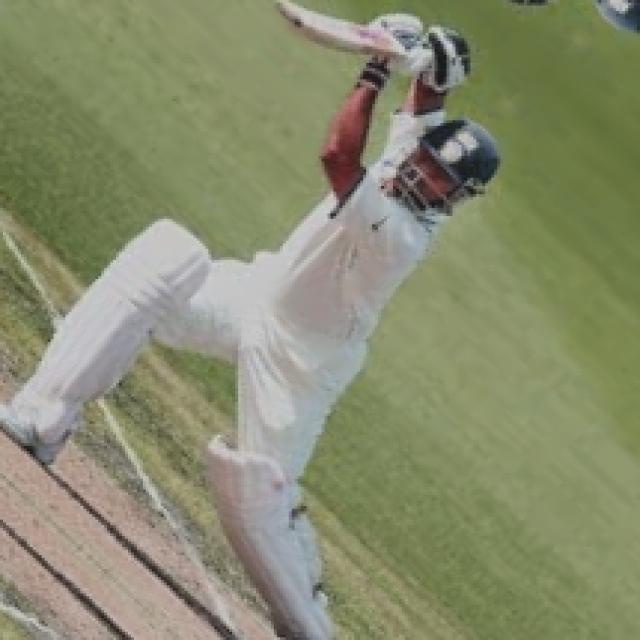bat: (254, 0, 450, 85)
